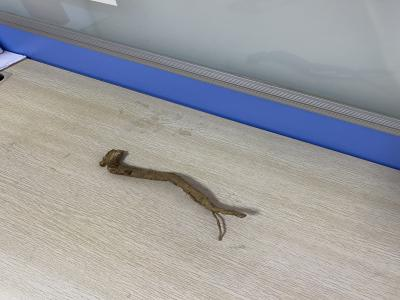Root: (99, 149, 246, 241)
